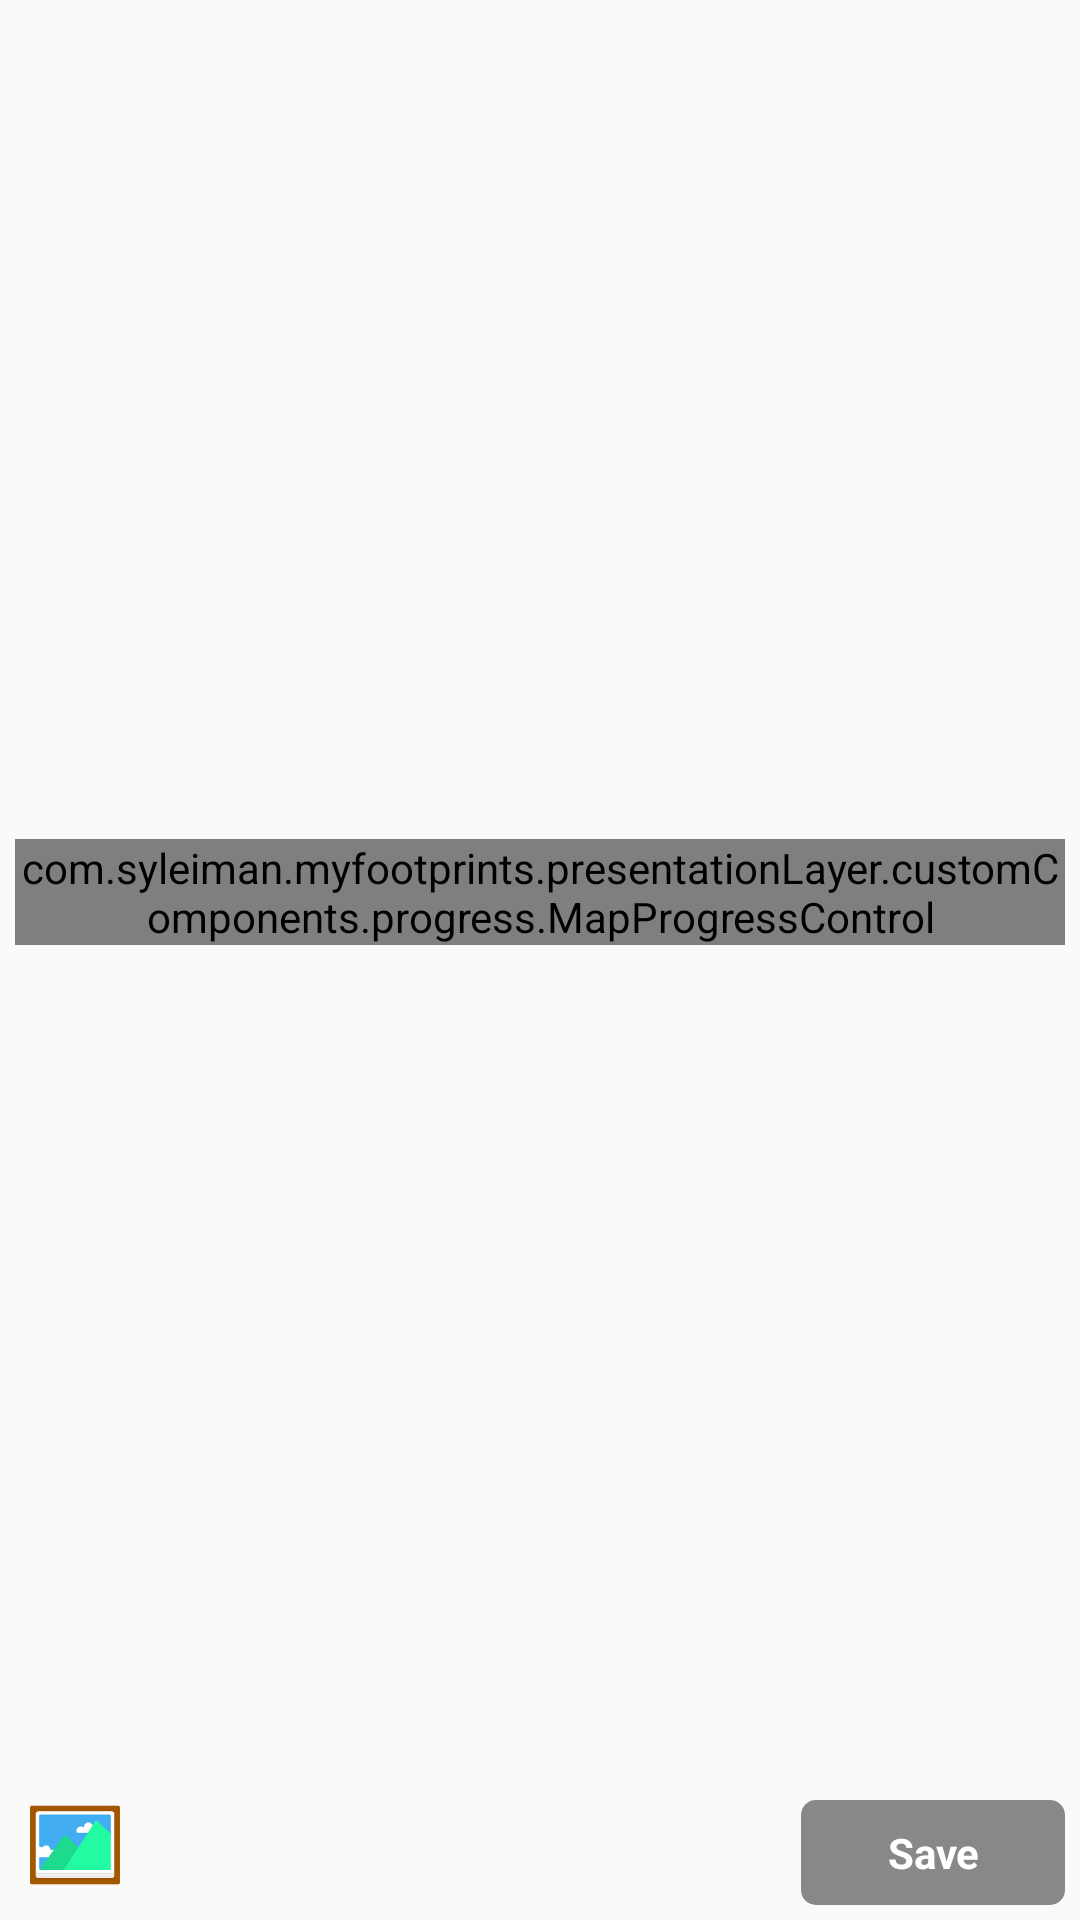

Icons on this 1080*1920 Android screen, each with its box as (x1, y1, x2, y2):
photo: (30, 1805, 120, 1885)
